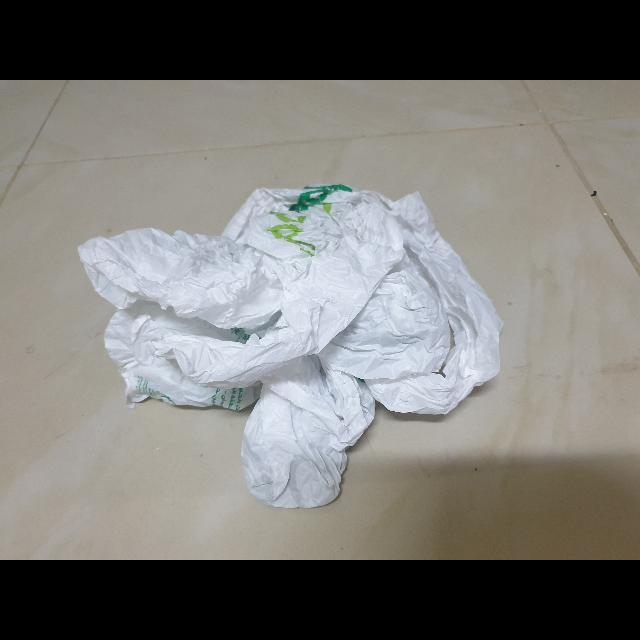plastic_bag: (70, 170, 514, 520)
